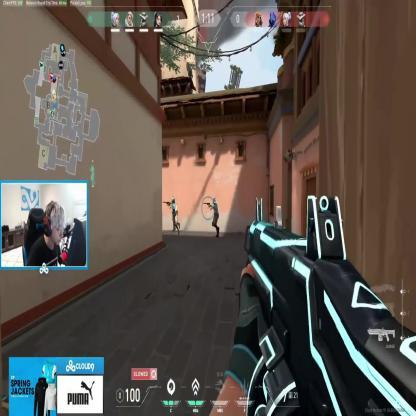enemy: (167, 195, 180, 235), (210, 196, 221, 238)
enemy_head: (171, 196, 175, 204), (212, 197, 216, 204)
